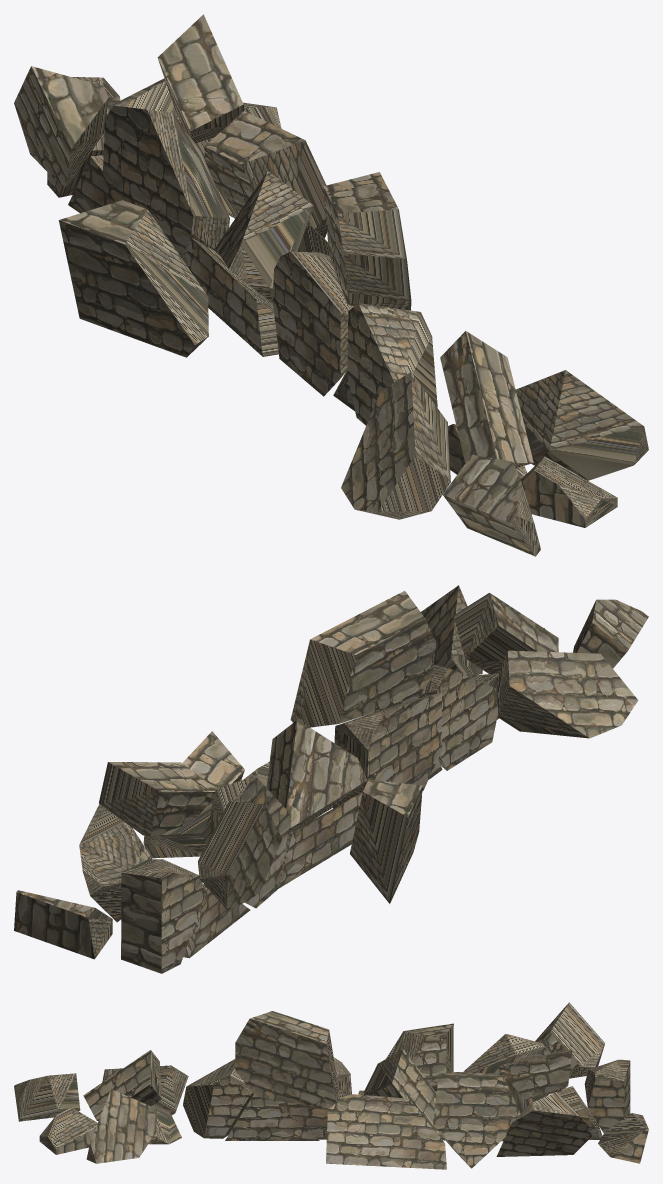
The model's file is BreakWallLarge_000010.obj.
3 renders of one model, top to bottom at view 1: azimuth 30°, elevation 25°; view 2: azimuth 150°, elevation 25°; view 3: azimuth 270°, elevation 25°, orthographic. The views are drawn at different scales.
Parts seen in each view (by area): view 1: Cube.057_cell.017_Cube.057_cell.016, Cube.057_cell.014_Cube.057_cell.013, Cube.057_cell.021_Cube.057_cell.020, Cube.057_cell.007_Cube.057_cell.006, Cube.057_cell.018_Cube.057_cell.017, Cube.057_cell.013_Cube.057_cell.012, Cube.057_cell.011_Cube.057_cell.010, Cube.057_cell.020_Cube.057_cell.019, Cube.057_cell.001_Cube.057_cell.000, Cube.057_cell.010_Cube.057_cell.009, Cube.057_cell_Cube.057_cell.022, Cube.057_cell.016_Cube.057_cell.015 (+7 smaller); view 2: Cube.057_cell.018_Cube.057_cell.017, Cube.057_cell.021_Cube.057_cell.020, Cube.057_cell.003_Cube.057_cell.002, Cube.057_cell.013_Cube.057_cell.012, Cube.057_cell_Cube.057_cell.022, Cube.057_cell.016_Cube.057_cell.015, Cube.057_cell.001_Cube.057_cell.000, Cube.057_cell.017_Cube.057_cell.016, Cube.057_cell.010_Cube.057_cell.009, Cube.057_cell.011_Cube.057_cell.010, Cube.057_cell.012_Cube.057_cell.011, Cube.057_cell.019_Cube.057_cell.018 (+6 smaller); view 3: Cube.057_cell.018_Cube.057_cell.017, Cube.057_cell.004_Cube.057_cell.003, Cube.057_cell.020_Cube.057_cell.019, Cube.057_cell.012_Cube.057_cell.011, Cube.057_cell.010_Cube.057_cell.009, Cube.057_cell.007_Cube.057_cell.006, Cube.057_cell_Cube.057_cell.022, Cube.057_cell.003_Cube.057_cell.002, Cube.057_cell.001_Cube.057_cell.000, Cube.057_cell.011_Cube.057_cell.010, Cube.057_cell.015_Cube.057_cell.014, Cube.057_cell.017_Cube.057_cell.016 (+9 smaller).
Part boxes in pixels (box(x1,y1,x2,y2)): Cube.057_cell.017_Cube.057_cell.016: box(58, 200, 208, 357); Cube.057_cell.014_Cube.057_cell.013: box(102, 105, 229, 261); Cube.057_cell.021_Cube.057_cell.020: box(341, 372, 450, 519); Cube.057_cell.007_Cube.057_cell.006: box(516, 370, 648, 480); Cube.057_cell.018_Cube.057_cell.017: box(323, 172, 411, 310); Cube.057_cell.013_Cube.057_cell.012: box(273, 251, 353, 396); Cube.057_cell.011_Cube.057_cell.010: box(440, 331, 533, 468); Cube.057_cell.020_Cube.057_cell.019: box(204, 111, 326, 238); Cube.057_cell.001_Cube.057_cell.000: box(14, 66, 108, 186); Cube.057_cell.010_Cube.057_cell.009: box(347, 303, 437, 425); Cube.057_cell_Cube.057_cell.022: box(215, 170, 313, 302); Cube.057_cell.016_Cube.057_cell.015: box(157, 14, 244, 143); Cube.057_cell.018_Cube.057_cell.017: box(290, 590, 435, 727); Cube.057_cell.021_Cube.057_cell.020: box(496, 650, 638, 738); Cube.057_cell.003_Cube.057_cell.002: box(121, 859, 204, 973); Cube.057_cell.013_Cube.057_cell.012: box(333, 692, 441, 808); Cube.057_cell_Cube.057_cell.022: box(266, 720, 367, 834); Cube.057_cell.016_Cube.057_cell.015: box(99, 762, 216, 836); Cube.057_cell.001_Cube.057_cell.000: box(198, 801, 282, 909); Cube.057_cell.017_Cube.057_cell.016: box(350, 779, 422, 903); Cube.057_cell.010_Cube.057_cell.009: box(411, 664, 497, 770); Cube.057_cell.011_Cube.057_cell.010: box(453, 593, 558, 673); Cube.057_cell.012_Cube.057_cell.011: box(79, 804, 151, 922); Cube.057_cell.019_Cube.057_cell.018: box(14, 890, 112, 959); Cube.057_cell.018_Cube.057_cell.017: box(235, 1011, 337, 1108); Cube.057_cell.004_Cube.057_cell.003: box(326, 1094, 446, 1169); Cube.057_cell.020_Cube.057_cell.019: box(433, 1072, 520, 1168); Cube.057_cell.012_Cube.057_cell.011: box(496, 1092, 591, 1156); Cube.057_cell.010_Cube.057_cell.009: box(183, 1059, 254, 1138); Cube.057_cell.007_Cube.057_cell.006: box(86, 1089, 157, 1163); Cube.057_cell_Cube.057_cell.022: box(363, 1049, 436, 1131); Cube.057_cell.003_Cube.057_cell.002: box(584, 1059, 630, 1132); Cube.057_cell.001_Cube.057_cell.000: box(535, 1002, 604, 1078); Cube.057_cell.011_Cube.057_cell.010: box(83, 1050, 161, 1120); Cube.057_cell.015_Cube.057_cell.014: box(14, 1073, 80, 1121); Cube.057_cell.017_Cube.057_cell.016: box(386, 1023, 453, 1091).
Size of the model in its own units: 22.83 by 14.4 by 69.79.
Materials: 2 (2 with a texture image).
